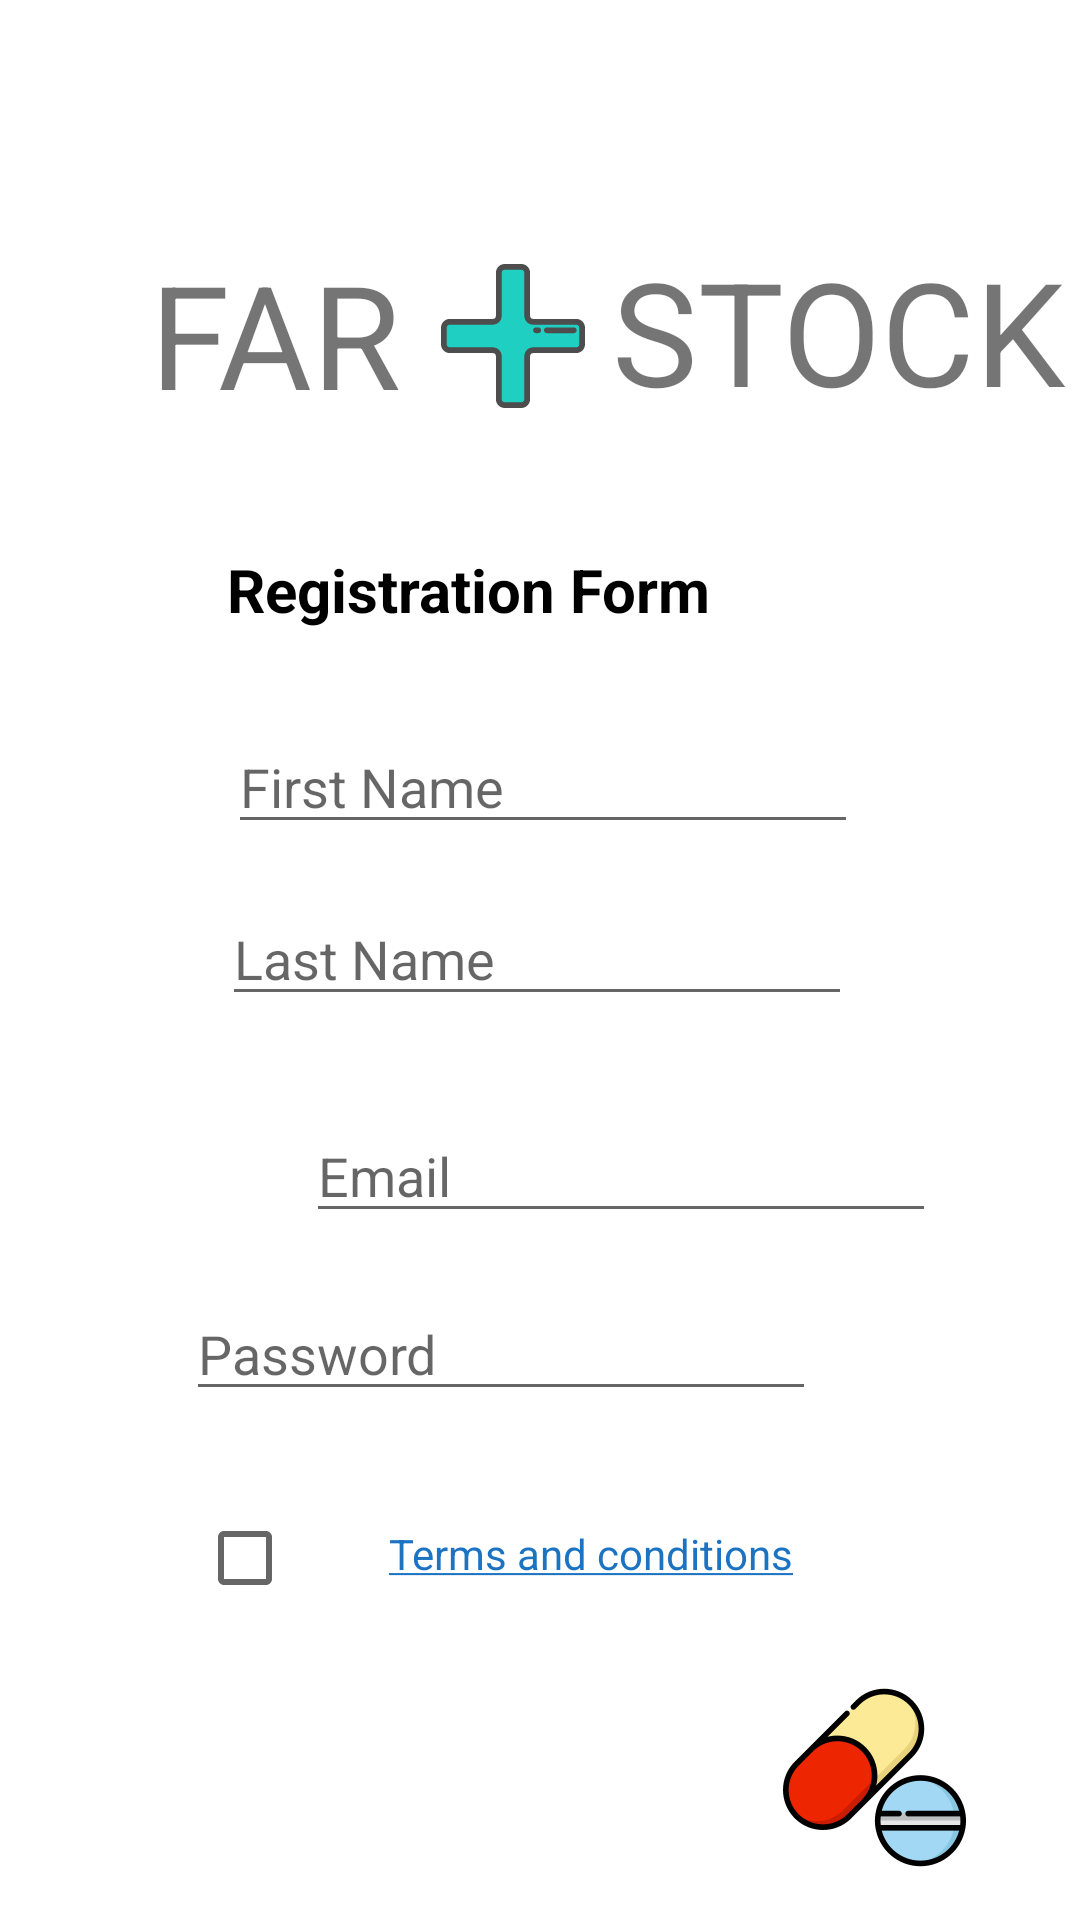

Locate icon controls on the screen. Image size 1080px×1920px, boxes as bbox(x1, y1, x2, y2).
pills medicine: bbox(783, 1688, 966, 1867)
plus: bbox(441, 264, 585, 408)
